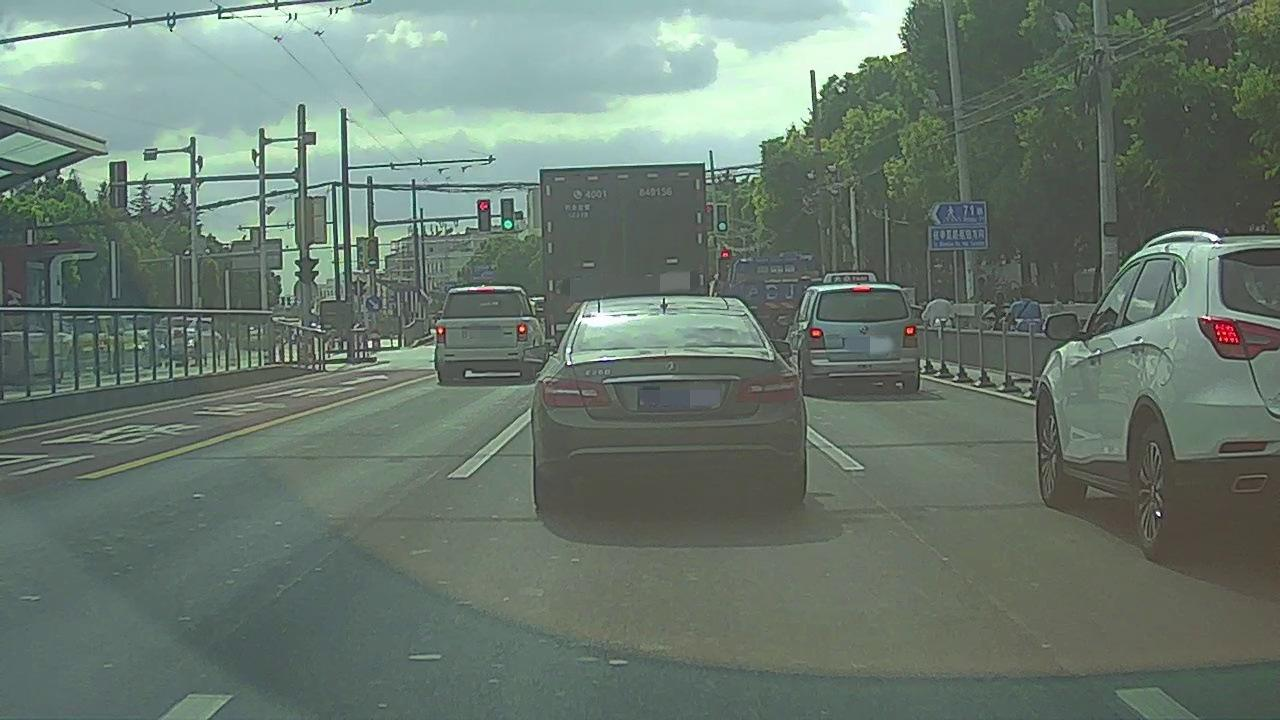traffic_light: (478, 198, 491, 232), (502, 198, 515, 229), (717, 204, 728, 231), (704, 203, 714, 231)
